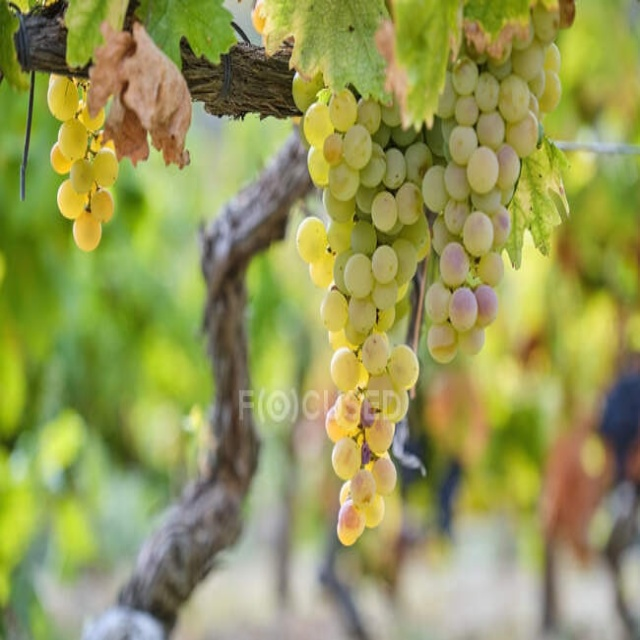grape: (290, 53, 426, 548)
